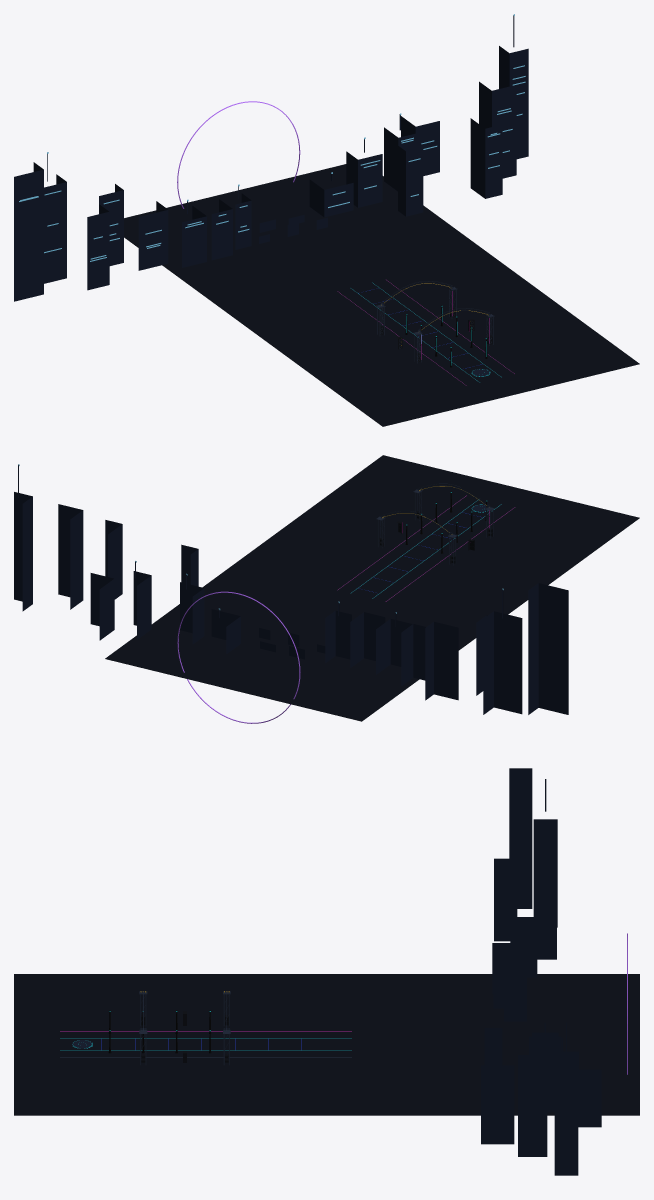
Rendered from arena_environment.glb.
3 renders of one model, top to bottom at view 1: azimuth 30°, elevation 25°; view 2: azimuth 150°, elevation 25°; view 3: azimuth 270°, elevation 25°, orthographic. The views are drawn at different scales.
Parts seen in each view (by area): view 1: arena_floor, arena_skyline, arena_channel_housing; view 2: arena_floor, arena_skyline, arena_horizon_ring, arena_channel_housing; view 3: arena_floor, arena_skyline.
Part boxes in pixels (x1,y1,x2,y2): arena_floor: (124, 164, 639, 426); arena_skyline: (14, 14, 528, 301); arena_channel_housing: (337, 279, 514, 385); arena_floor: (105, 455, 639, 721); arena_skyline: (14, 464, 568, 714); arena_horizon_ring: (177, 591, 300, 723); arena_channel_housing: (337, 495, 515, 601); arena_floor: (14, 974, 639, 1115); arena_skyline: (481, 768, 601, 1175).
Bounding box in the file's own units: 166 × 52.71 × 150.
